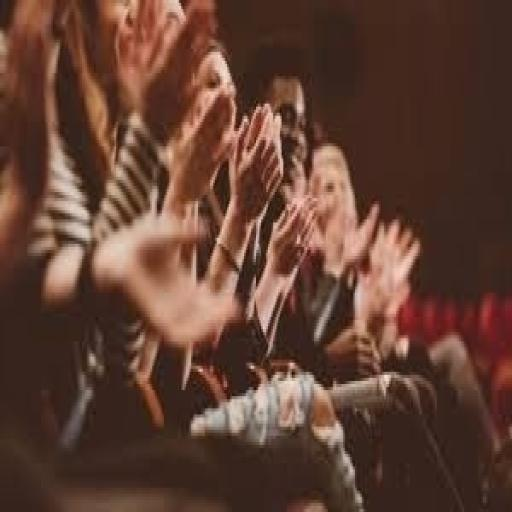clapping: (2, 0, 507, 509)
